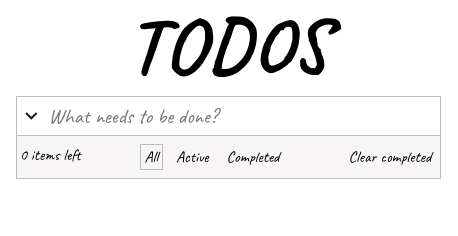
Test: AppTodo Component › should add a new task on Enter key press
Type "New Task" into the field with placeholder "What needs to be done?" at [240, 116], box 40,96 -> 440,136
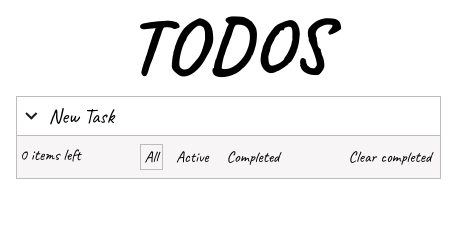
Press Enter in the field with placeholder "What needs to be done?", box 40,96 -> 440,136
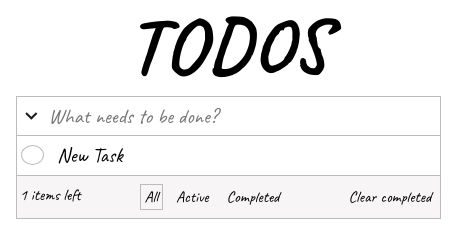
Now the list item "New Task" is shown, box 49,136 -> 440,176
